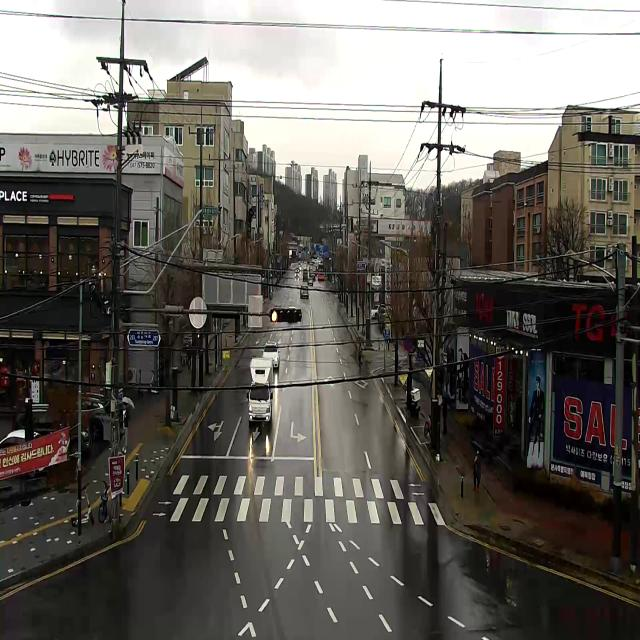Bus: (318, 264, 325, 280)
Car: (12, 412, 92, 460), (0, 429, 45, 478), (74, 392, 110, 442), (261, 341, 280, 369), (372, 304, 386, 319), (183, 331, 192, 347), (300, 285, 309, 299), (302, 272, 308, 281), (309, 272, 315, 281), (308, 278, 314, 286), (295, 272, 299, 277), (295, 268, 300, 272), (303, 265, 307, 270), (304, 260, 308, 264)
Truck: (246, 358, 273, 427)
